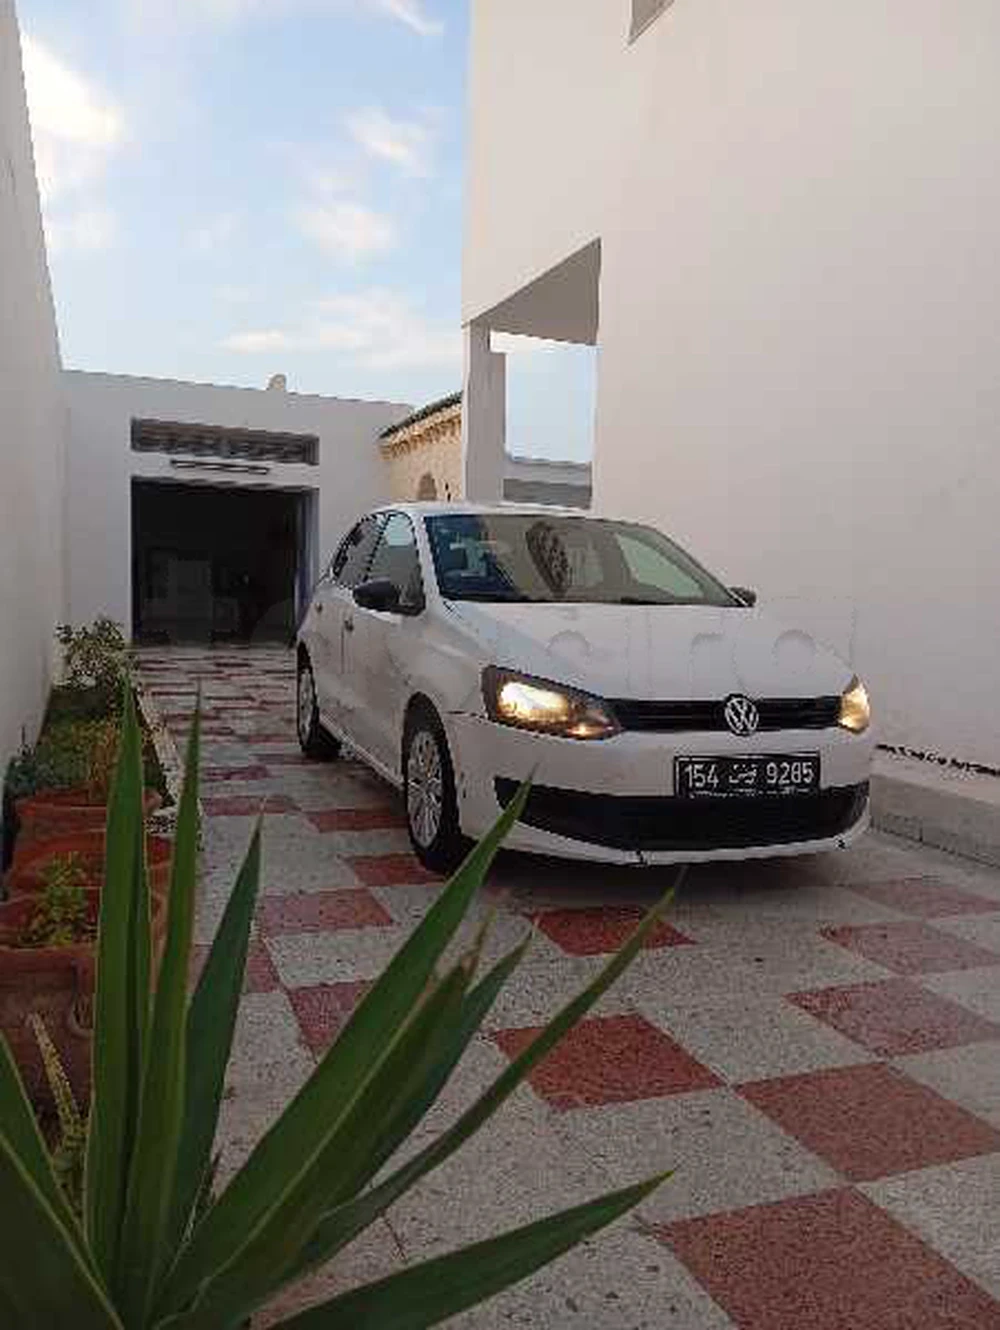volkswagen: (289, 499, 891, 875)
